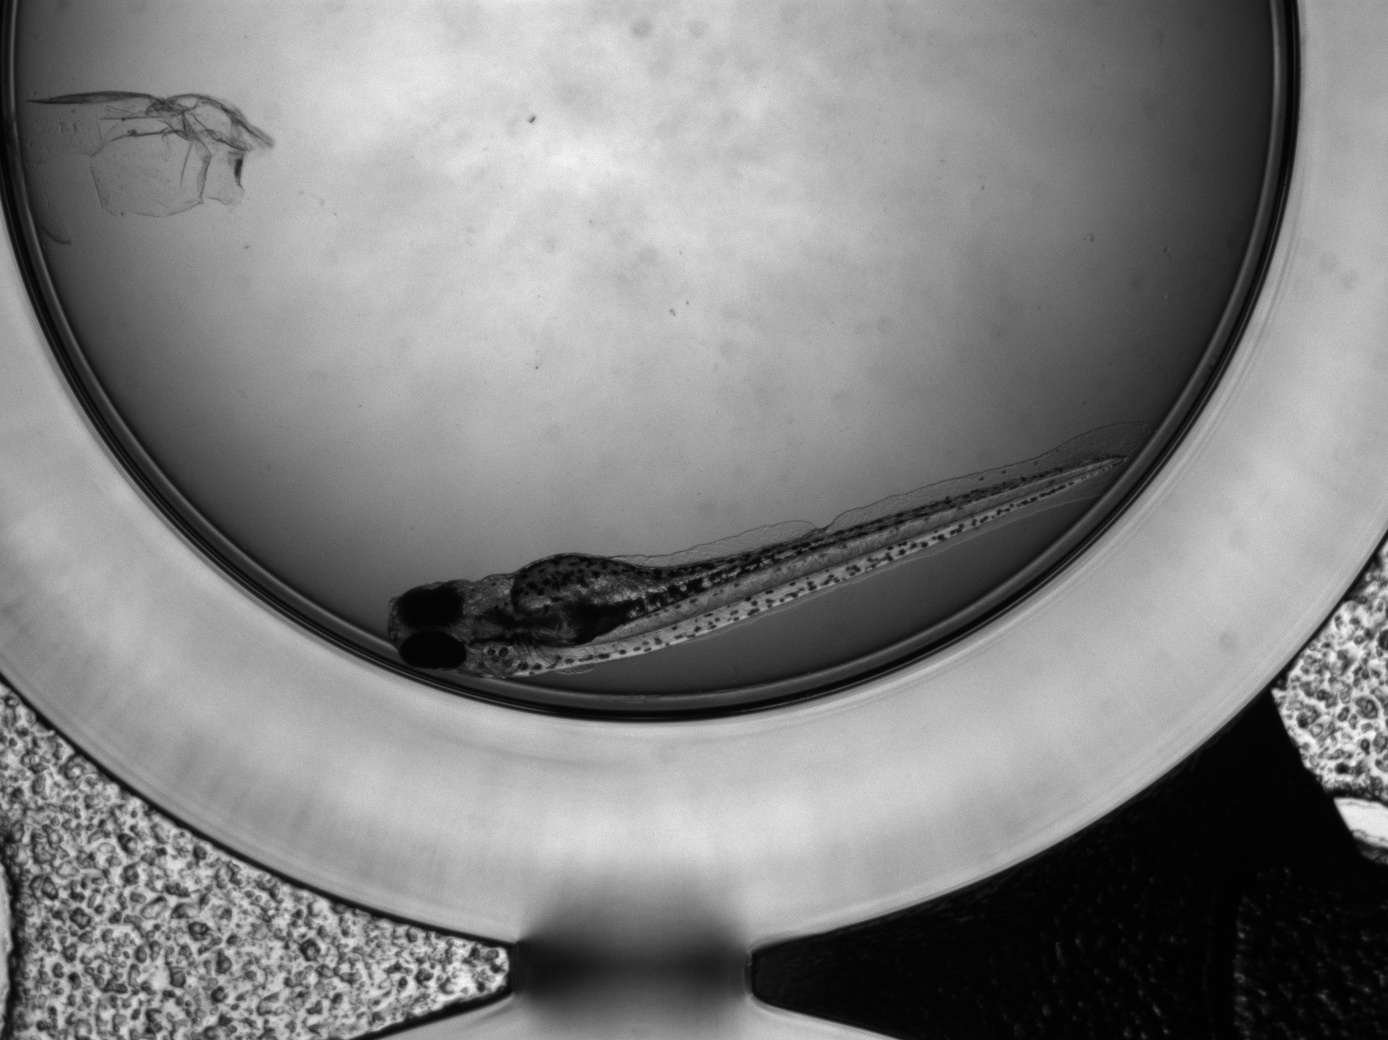debris: (27, 83, 277, 218)
embryo: (387, 451, 1132, 675)
eye: (398, 586, 463, 628), (399, 630, 467, 671)
yolksac: (508, 548, 642, 643)
